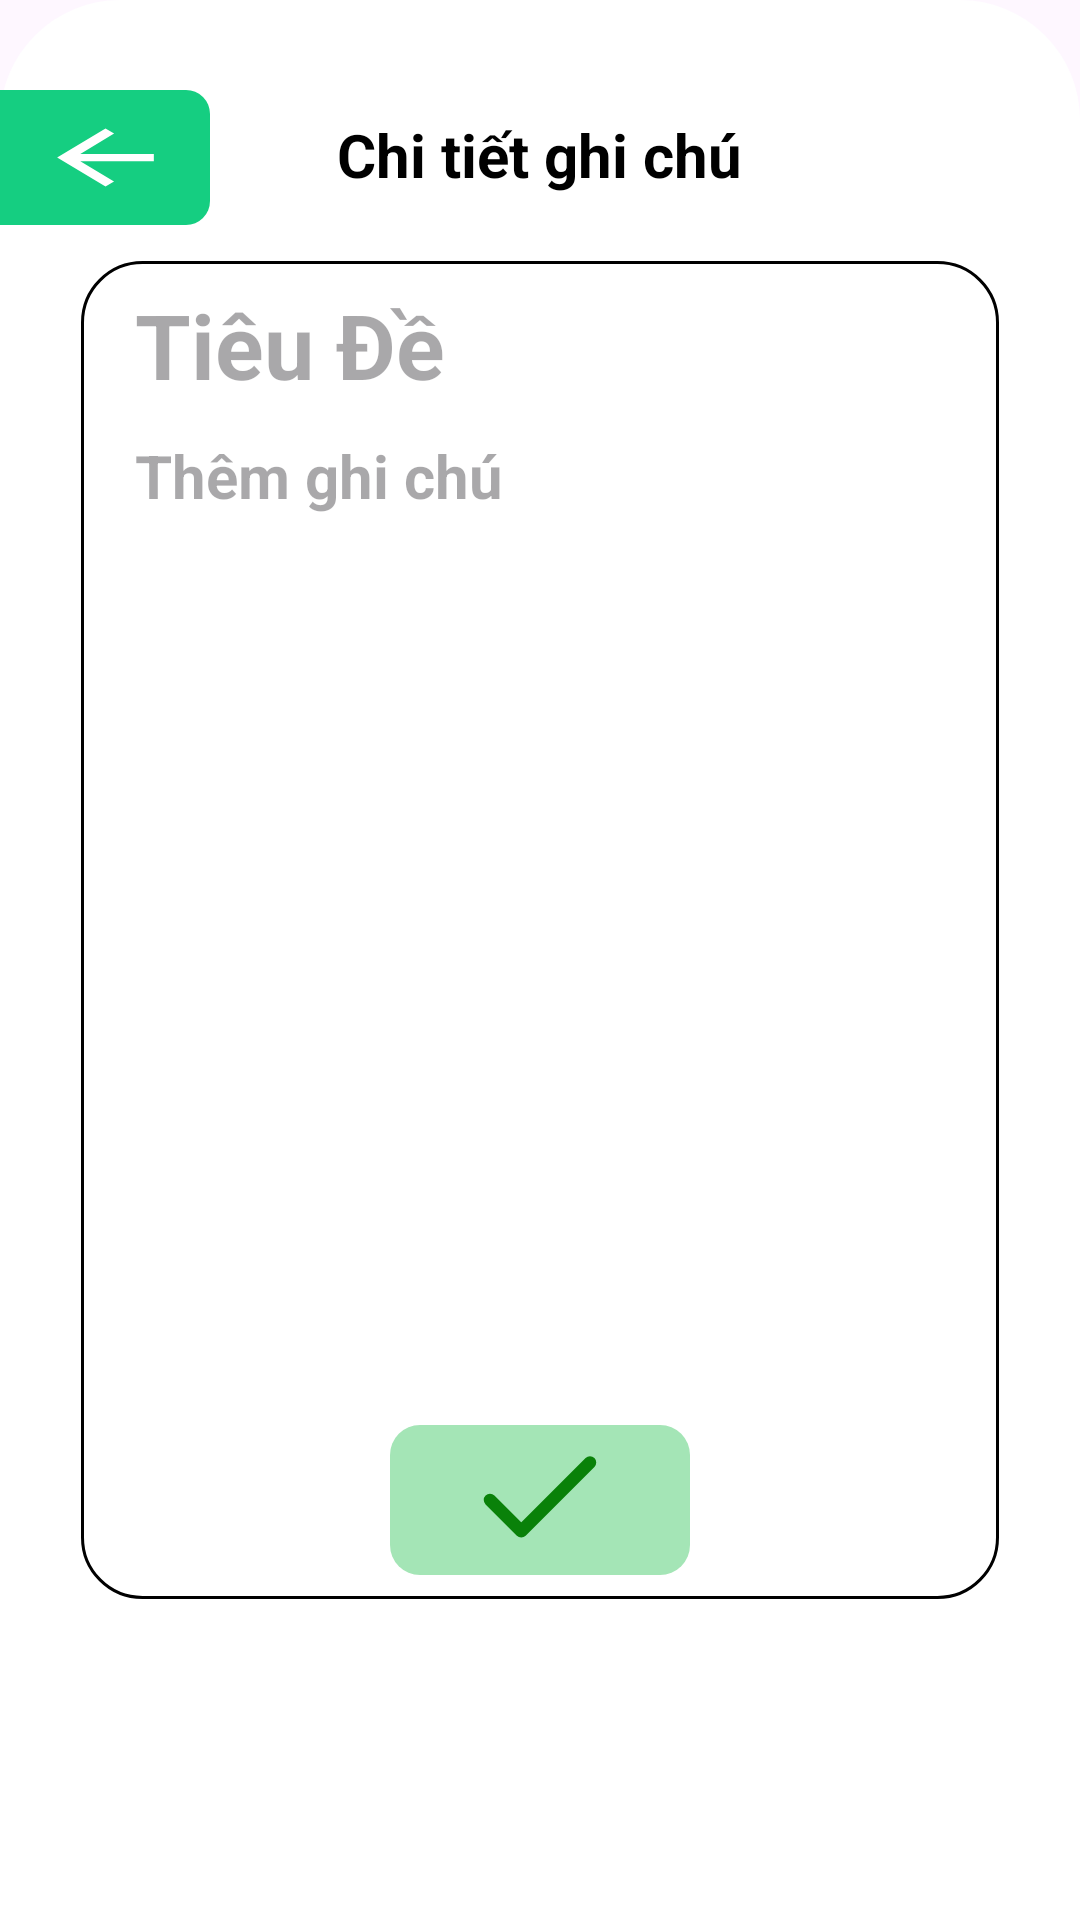

Icons on this 1080w x 1920h Android screen, each with its box as (x1, y1, x2, y2):
arrow back: (0, 90, 210, 225)
check: (390, 1425, 690, 1575)
